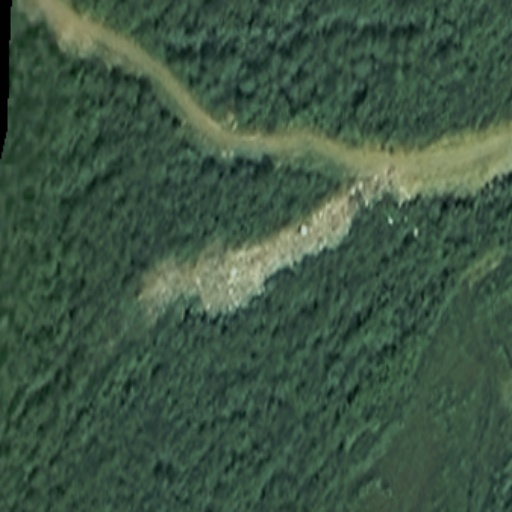landslide: (137, 188, 363, 313)
